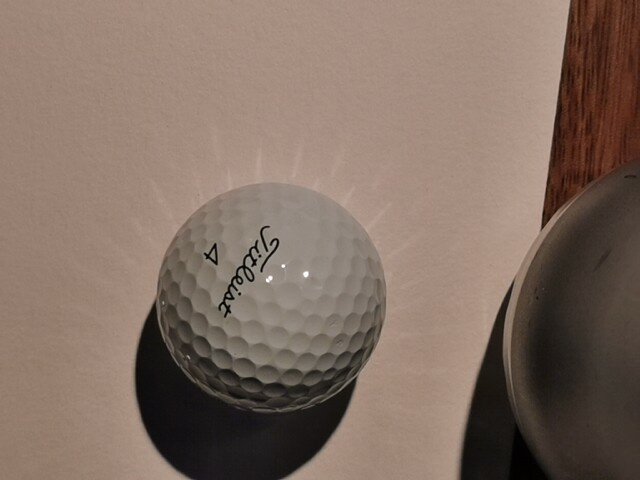Ball: (156, 182, 387, 415)
Titleist: (218, 225, 280, 319)
